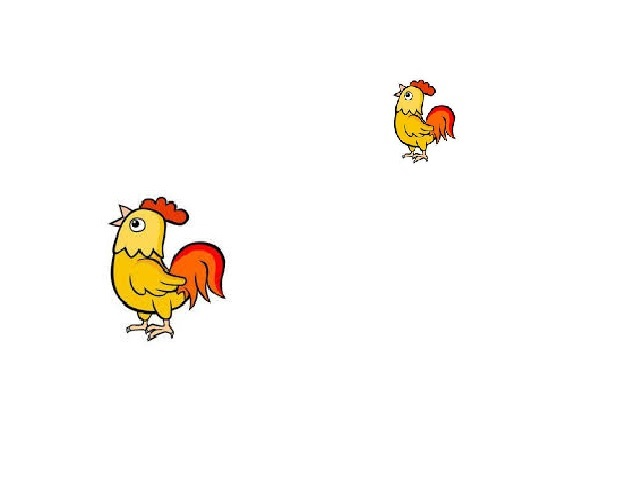crown: (142, 196, 194, 230), (412, 80, 437, 93)
eyes: (129, 215, 143, 228), (405, 90, 411, 103)
feet: (125, 320, 181, 346), (402, 145, 429, 165)
tail: (167, 241, 233, 305), (427, 105, 458, 140)
